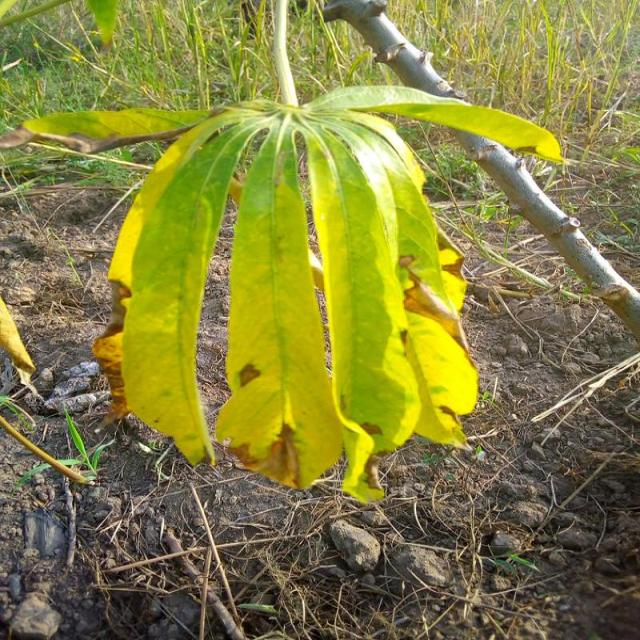cassava leaf: (4, 2, 566, 504)
